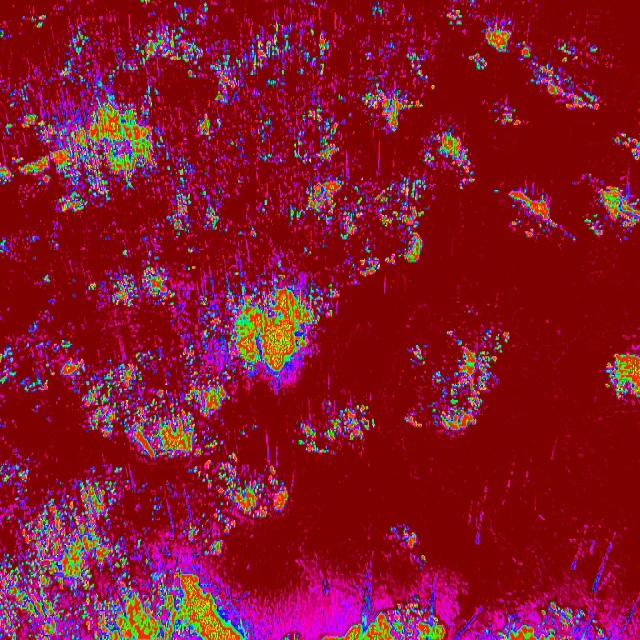fire: (0, 0, 238, 640), (238, 0, 332, 381), (332, 0, 429, 285), (404, 319, 512, 433), (524, 32, 612, 116), (319, 595, 451, 640), (293, 396, 377, 459), (504, 180, 574, 250), (489, 602, 615, 640), (580, 169, 640, 242), (238, 459, 300, 526), (468, 17, 534, 72), (430, 122, 472, 198), (382, 514, 430, 562), (597, 348, 640, 401), (486, 95, 530, 130), (615, 128, 640, 163)
